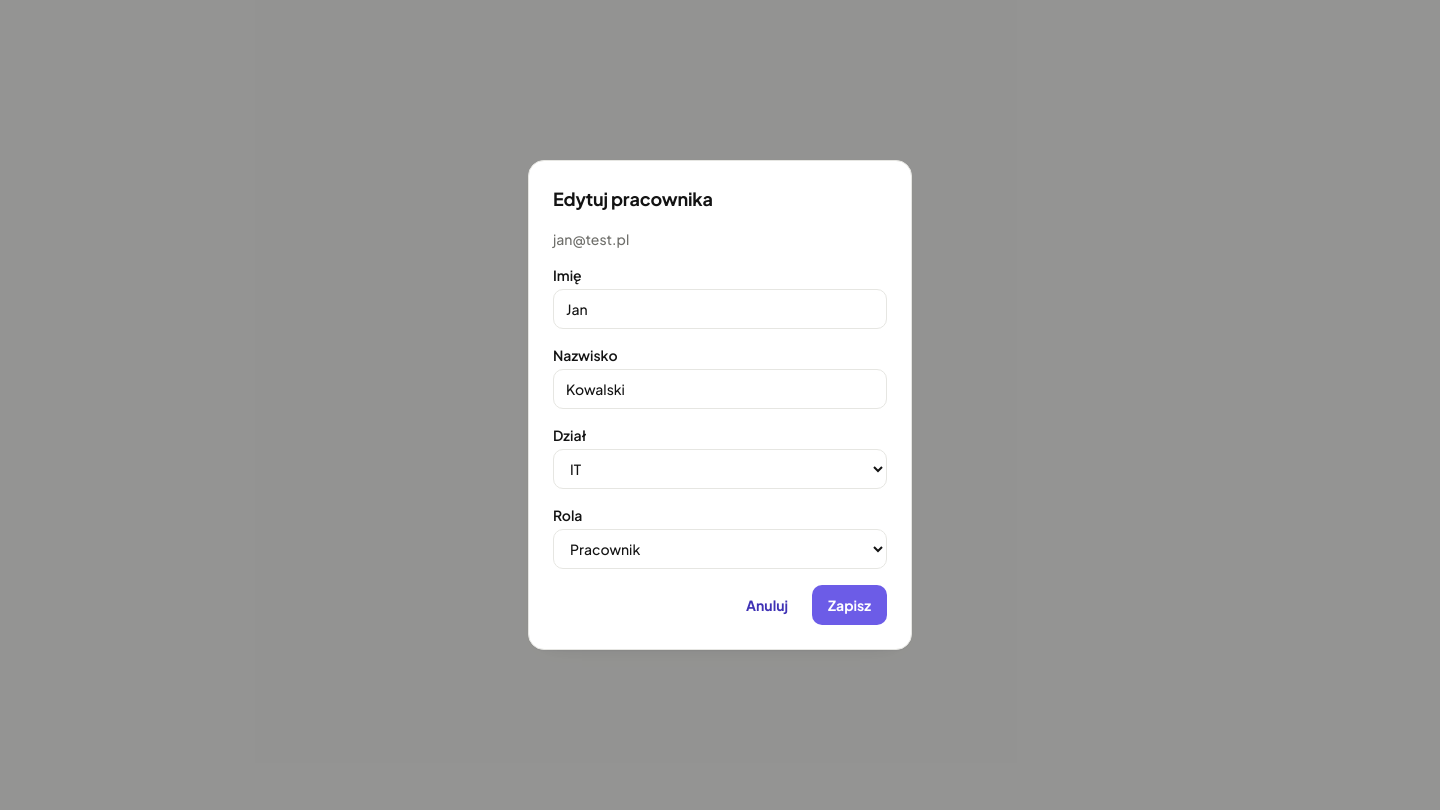
Test: EditUserModal › blokuje wysyłkę, gdy imię lub nazwisko jest puste
Clear the field labelled "Imię" at (720, 309), box [553,289,887,329]
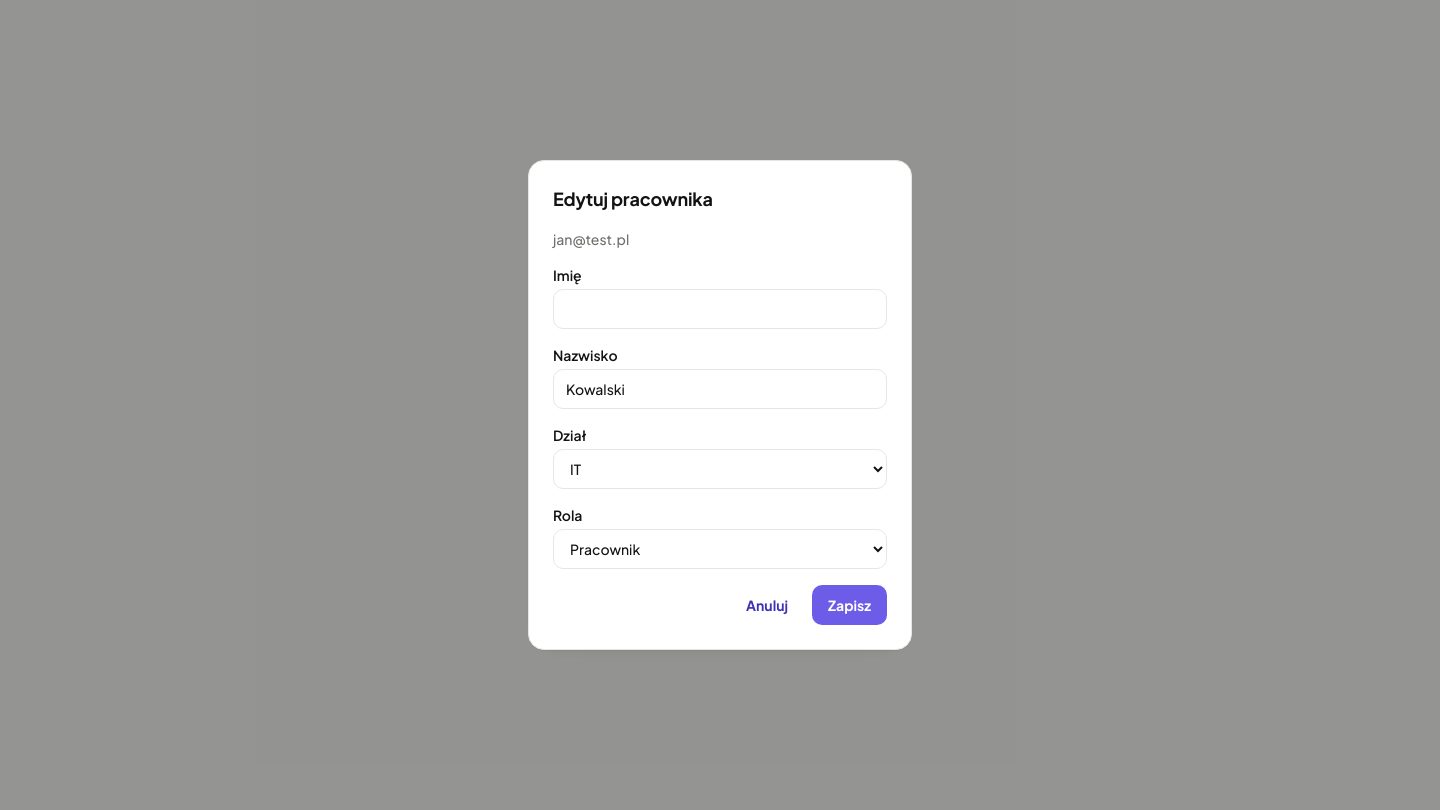
Click the button "Zapisz".
click(850, 605)  # box [812,585,887,625]
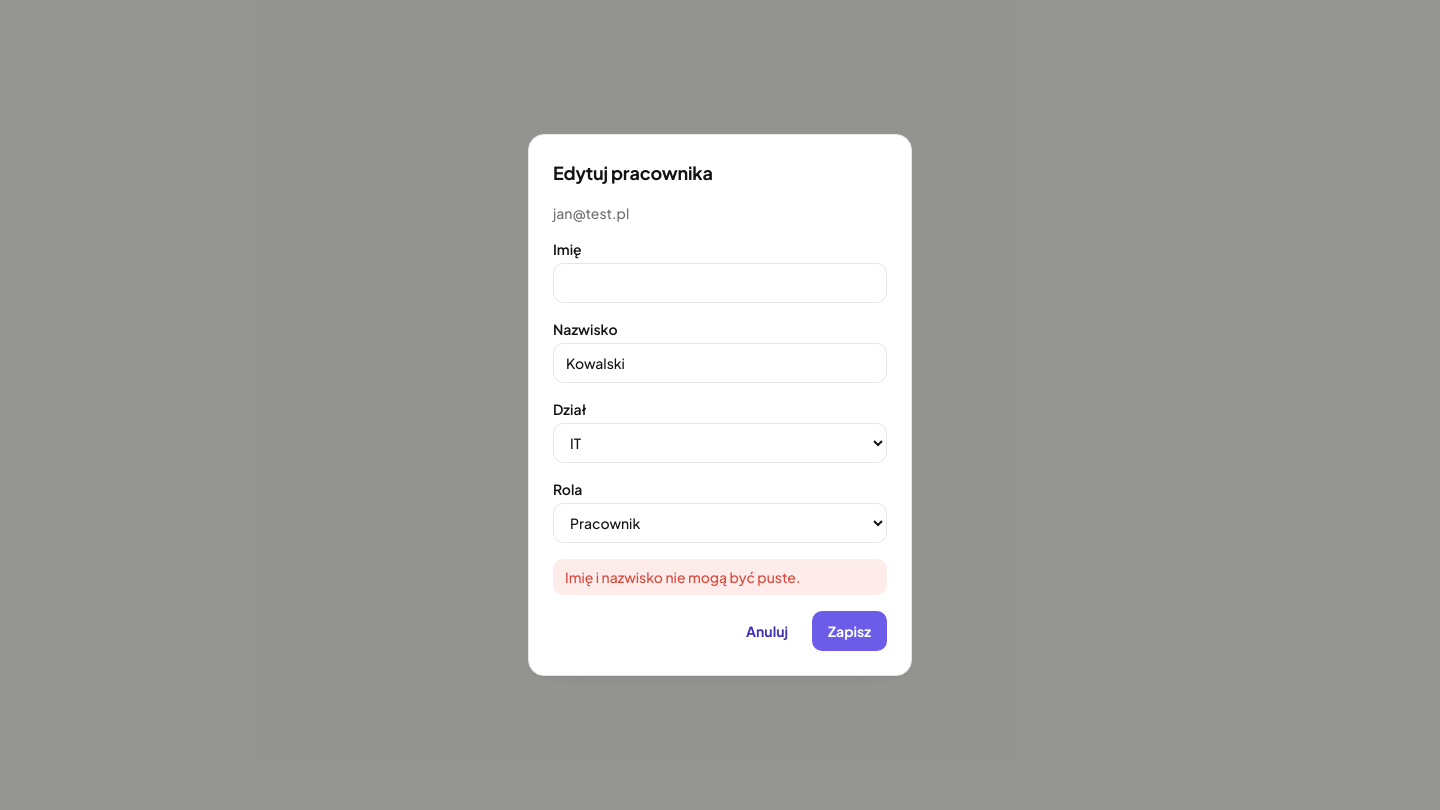
Expected: the message shows "nie mogą być puste", [565,568,800,586]
